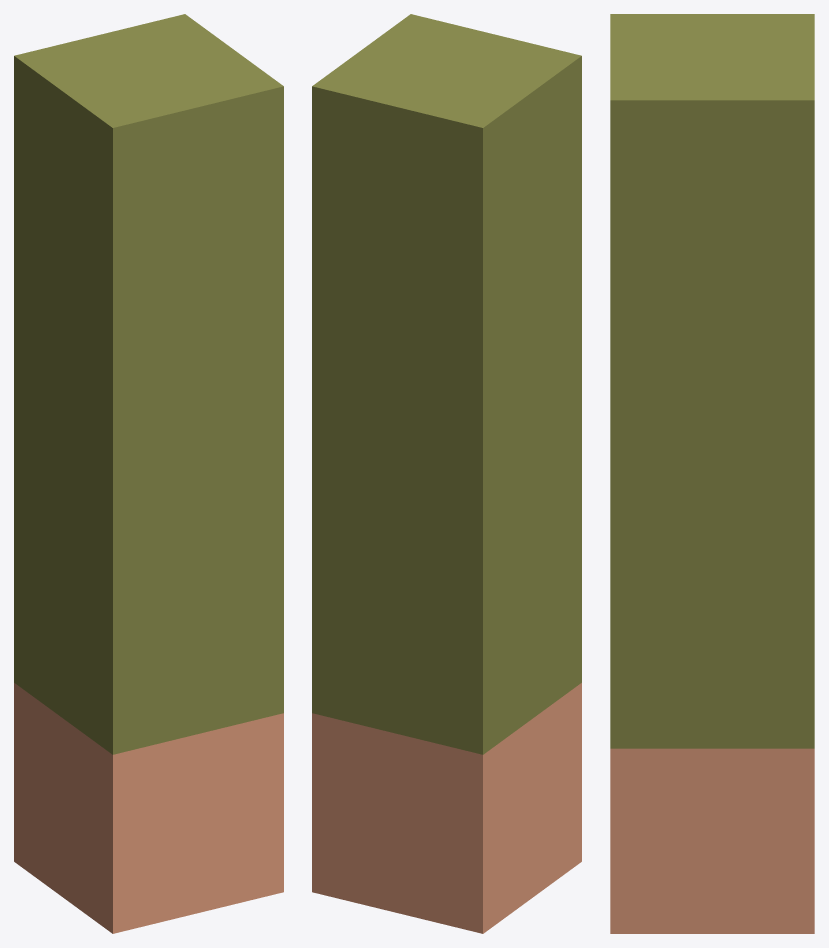
Rendered from gang_member_one_arm.obj.
The picture shows the model from 3 angles, left to right: view 1: azimuth 30°, elevation 25°; view 2: azimuth 150°, elevation 25°; view 3: azimuth 270°, elevation 25°; orthographic projection. The views are drawn at different scales.
Bounding box in the file's own units: 0.2 × 0.9 × 0.2.
Materials: 1 (1 with a texture image).
